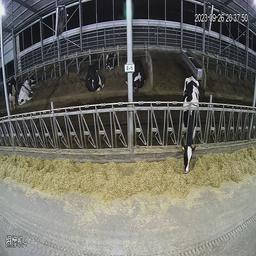cow: (181, 73, 200, 174), (85, 61, 104, 94), (18, 76, 36, 104), (131, 57, 146, 90), (104, 50, 117, 71)
